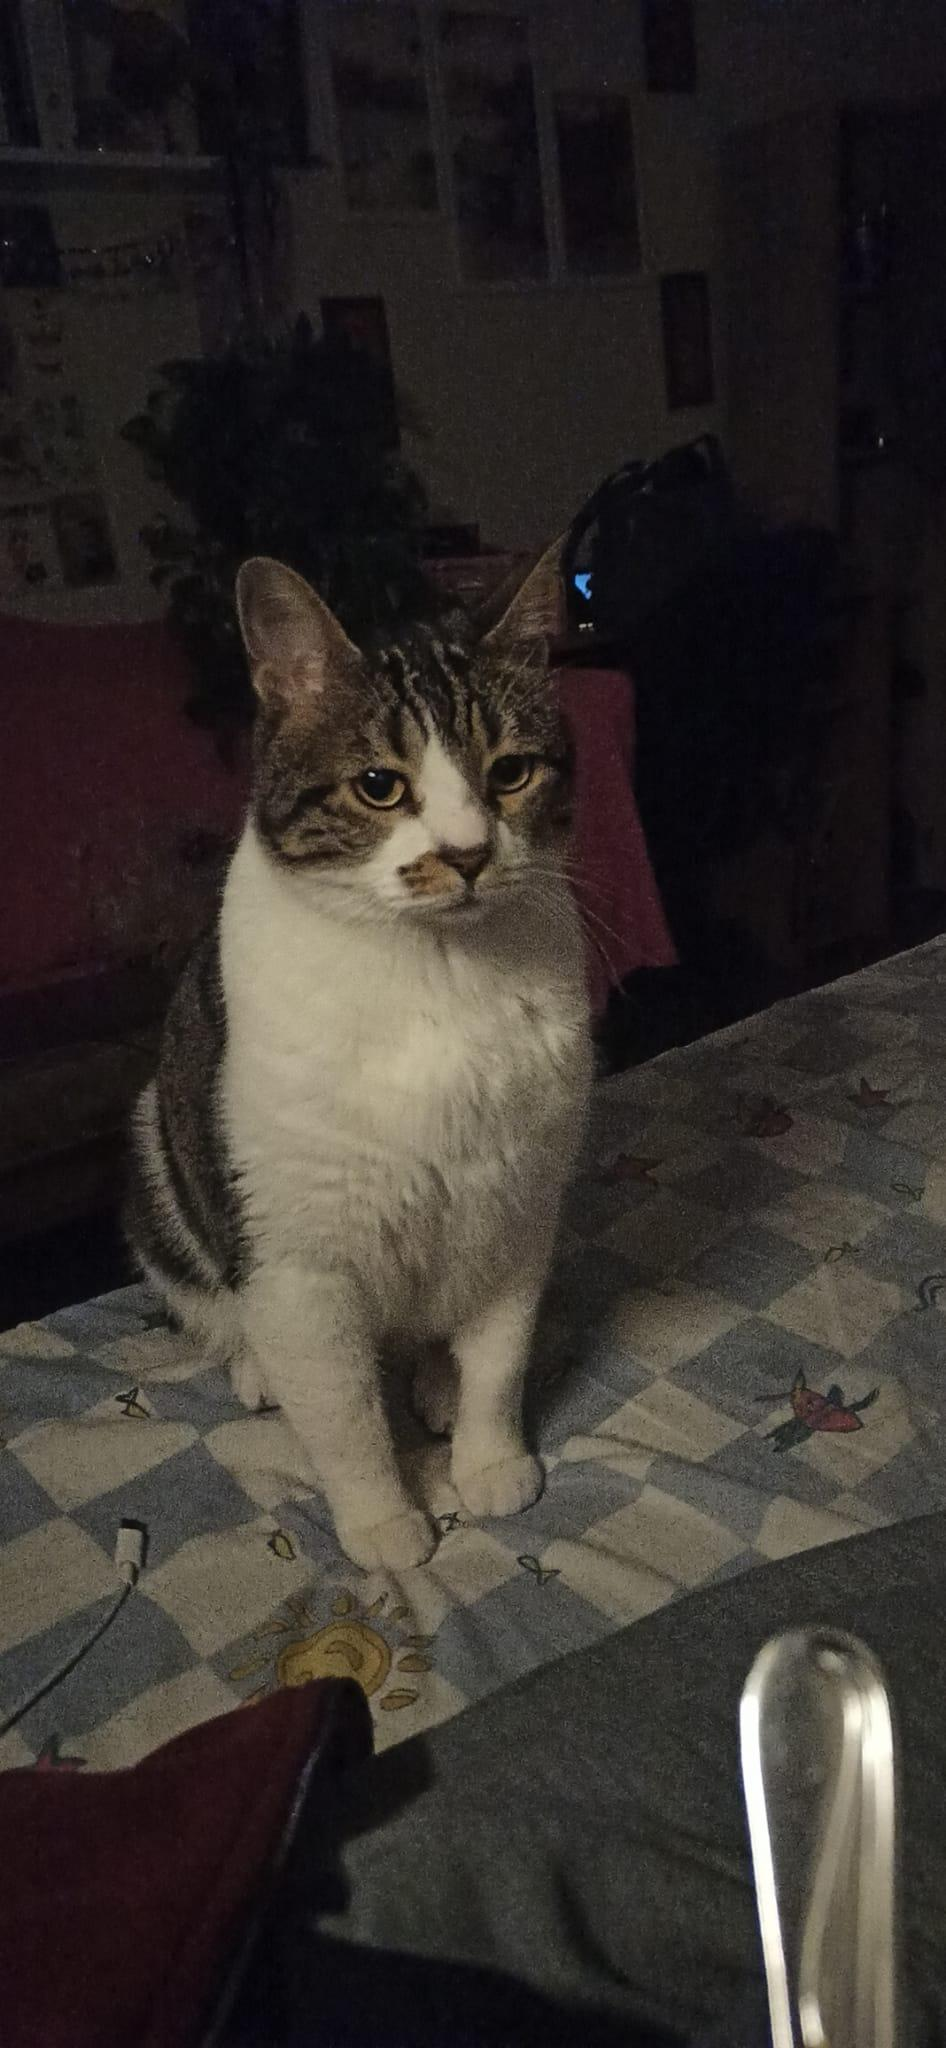kedo: (125, 546, 596, 1573)
